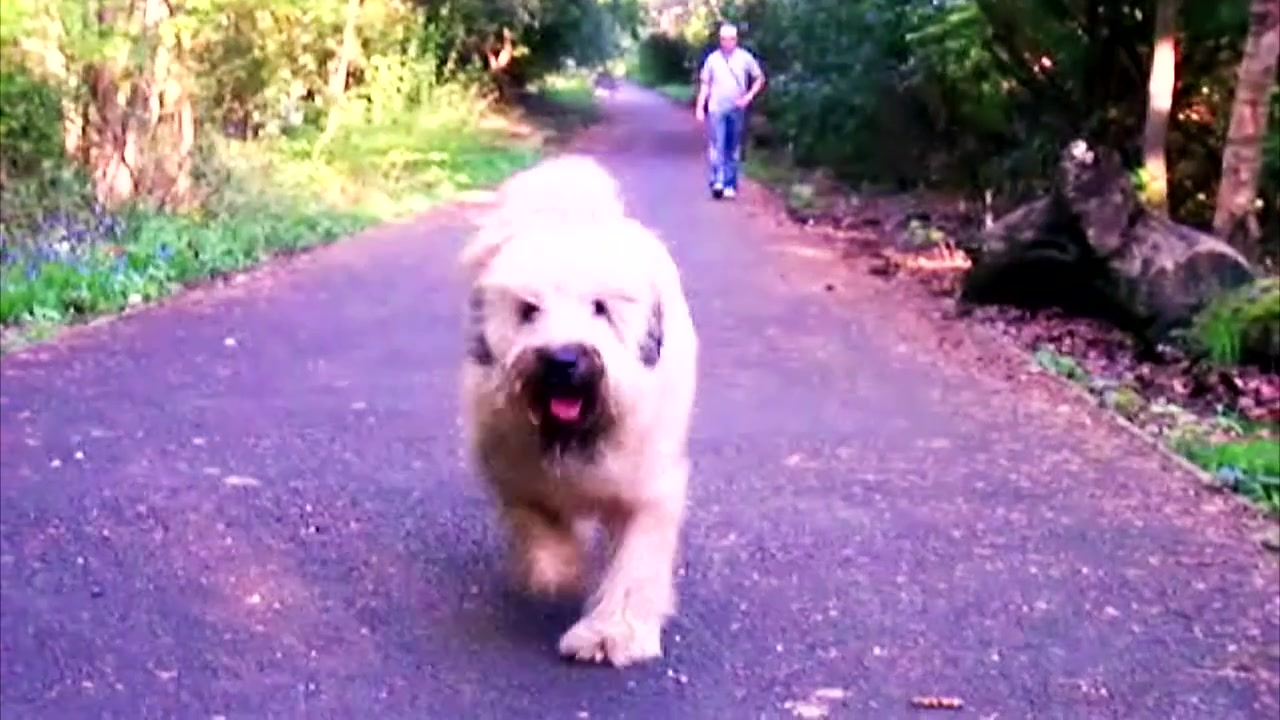dog: (464, 148, 702, 678)
